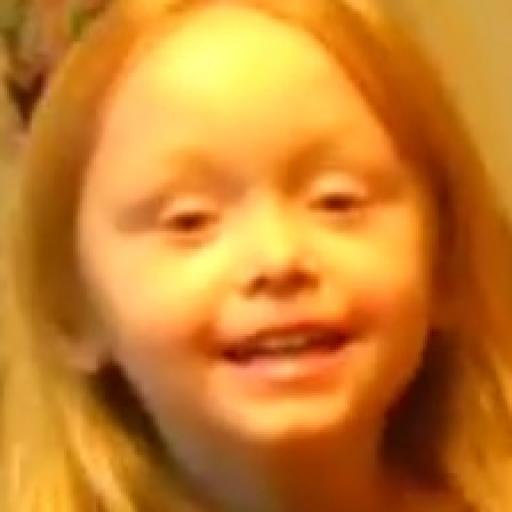Autism: (62, 50, 497, 479)
